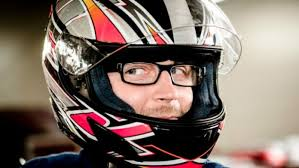com_capacete: (29, 1, 248, 168)
